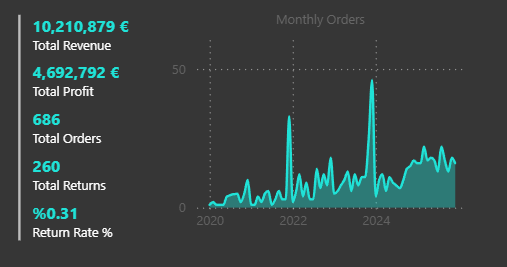

The page's visual inventory and layout, read from the dashboard file:
{"tool":"powerbi","page":{"name":"Category Tooltip","canvas":[425,225],"ordinal":5},"visuals":[{"type":"multiRowCard","fields":{"Values":["Key Measures.Total Revenue","Key Measures.Total Profit","Key Measures.Total Orders","Key Measures.Total Returned Items","Key Measures.Return Rate %"]},"box":[0,0,127.3,225.3],"z":0},{"type":"areaChart","title":"Monthly Orders","fields":{"Category":["Dim_Calendar.Start of Month"],"Y":["Key Measures.Total Orders"]},"box":[127.3,10,280.7,204.7],"z":1000}]}

Visuals, with their boxes in screenshot pixels (x1, y1, x2, y2), scaled from the page's 425x225 canvas onto the 507x267 screenshot:
multiRowCard - Key Measures.Total Revenue x Key Measures.Total Profit: x1=0, y1=0, x2=152, y2=266
"Monthly Orders" areaChart: x1=152, y1=12, x2=487, y2=255
